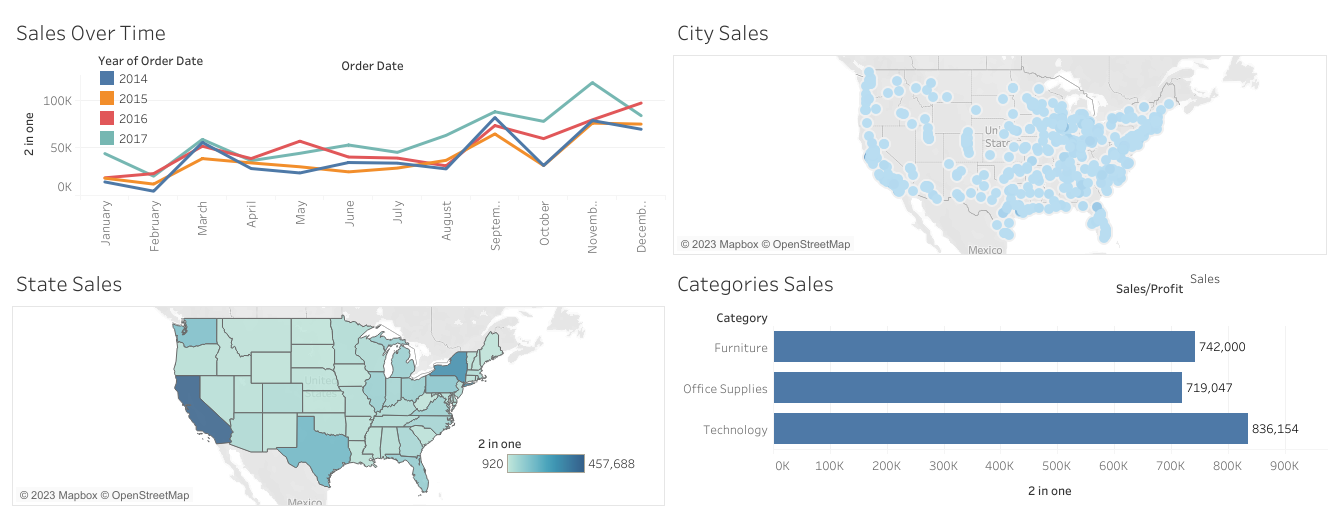

The page's visual inventory and layout, read from the dashboard file:
{"tool":"tableau","page":{"name":"Sales/Profit Dashboard","canvas":[1000,1000],"units":"permille","ordinal":0},"visuals":[{"type":"worksheet","title":"Sales Over Time","mark":"Automatic","rows":["Calculation_339177414981332992"],"cols":["Order Date"],"box":[6.9,13.5,493.1,486.5]},{"type":"worksheet","title":"City Sales","mark":"Automatic","box":[500,13.5,493.1,486.5]},{"type":"legend","title":"Sales Over Time","param":"[federated.1sgypfi0pfyub11ga3trf0en5twi].[yr:Order Date:ok]","box":[72.7,94.6,111.7,185.8]},{"type":"worksheet","title":"State Sales","mark":"Automatic","box":[6.9,500,493.1,486.5]},{"type":"worksheet","title":"Category Sales","mark":"Automatic","rows":["Category"],"cols":["Calculation_339177414981332992"],"box":[500,500,493.1,486.5]},{"type":"parameter","param":"[Parameters].[Parameter 1]","box":[833.8,518.6,138.5,74.3]},{"type":"legend","title":"State Sales","param":"[federated.1sgypfi0pfyub11ga3trf0en5twi].[sum:Calculation_339177414981332992:qk]","box":[356.7,829.4,121.2,131.8]}]}

Visuals, with their boxes on the dashboard's canvas, which has no fixed pixel size, in thousandths of its width and height (x1, y1, x2, y2). These are canvas units, not pixel positions in the 1338x517 screenshot, which may show the page scaled, cropped or inside an application window:
"Sales Over Time" worksheet: crop(7, 14, 500, 500)
"City Sales" worksheet: crop(500, 14, 993, 500)
"Sales Over Time" legend: crop(73, 95, 184, 280)
"State Sales" worksheet: crop(7, 500, 500, 986)
"Category Sales" worksheet: crop(500, 500, 993, 986)
parameter: crop(834, 519, 972, 593)
"State Sales" legend: crop(357, 829, 478, 961)
